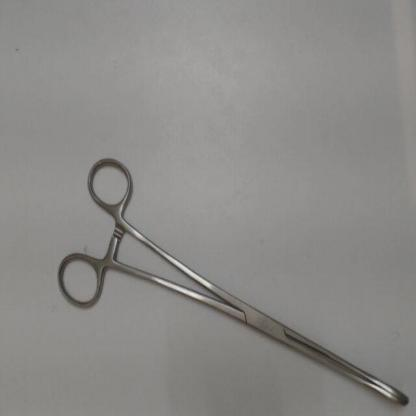Sponge Forceps: (51, 145, 414, 413)
